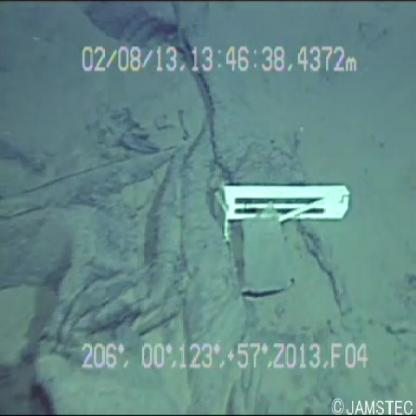Rác: (214, 164, 348, 246)
